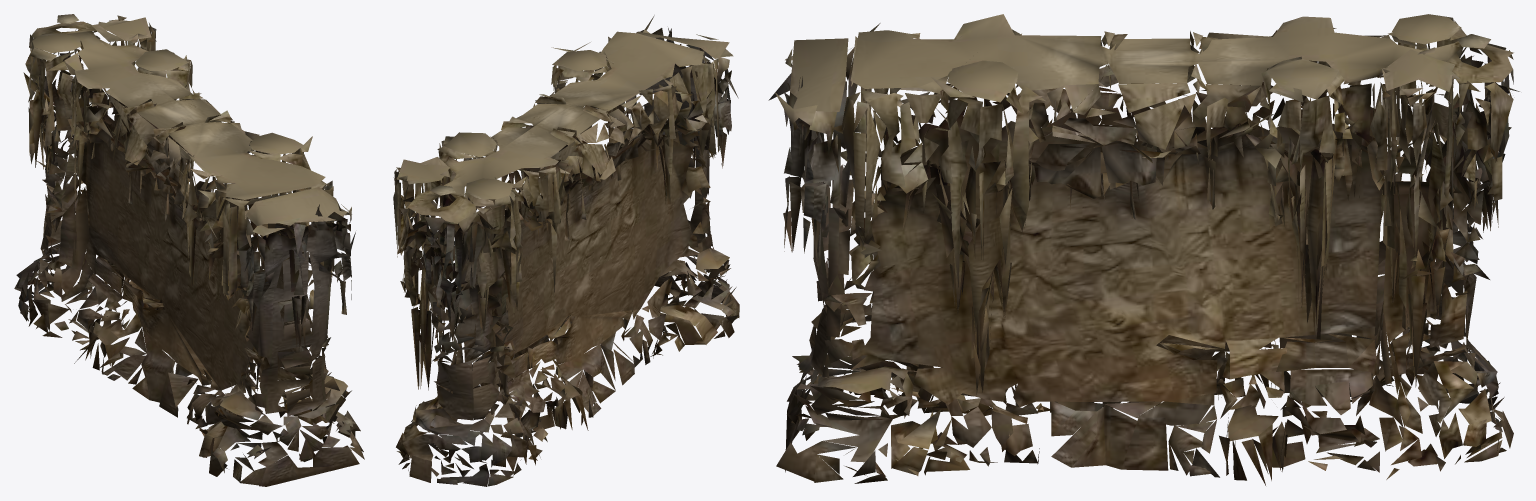
Rendered from cav_flowstone_drapery_wall_LOD2.glb.
3 renders of one model, left to right at view 1: azimuth 30°, elevation 25°; view 2: azimuth 150°, elevation 25°; view 3: azimuth 270°, elevation 25°, orthographic. The views are drawn at different scales.
Parts seen in each view (by area): view 1: tripo_node_7b1ac8a0-77a8-4fd8-9107-2be55535e6d0; view 2: tripo_node_7b1ac8a0-77a8-4fd8-9107-2be55535e6d0; view 3: tripo_node_7b1ac8a0-77a8-4fd8-9107-2be55535e6d0.
Boxes of the visible parts, x1,y1,x2,y2 form: tripo_node_7b1ac8a0-77a8-4fd8-9107-2be55535e6d0: [14, 14, 364, 486]; tripo_node_7b1ac8a0-77a8-4fd8-9107-2be55535e6d0: [393, 15, 739, 486]; tripo_node_7b1ac8a0-77a8-4fd8-9107-2be55535e6d0: [768, 14, 1519, 485].
Size of the model in its own units: 0.3231 by 0.6104 by 1.03.
Materials: 1 (1 with a texture image).
